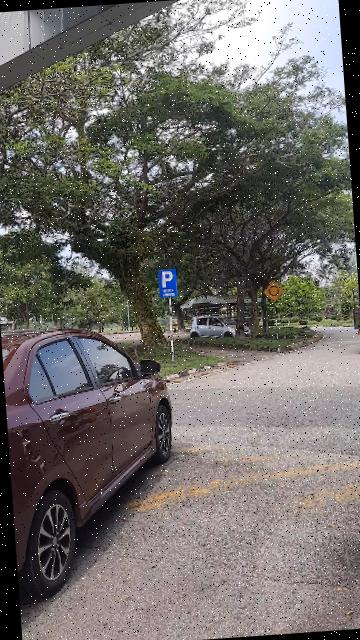car: (1, 302, 193, 604)
